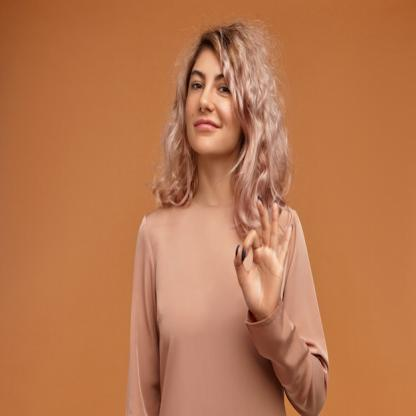ok: (229, 191, 296, 327)
